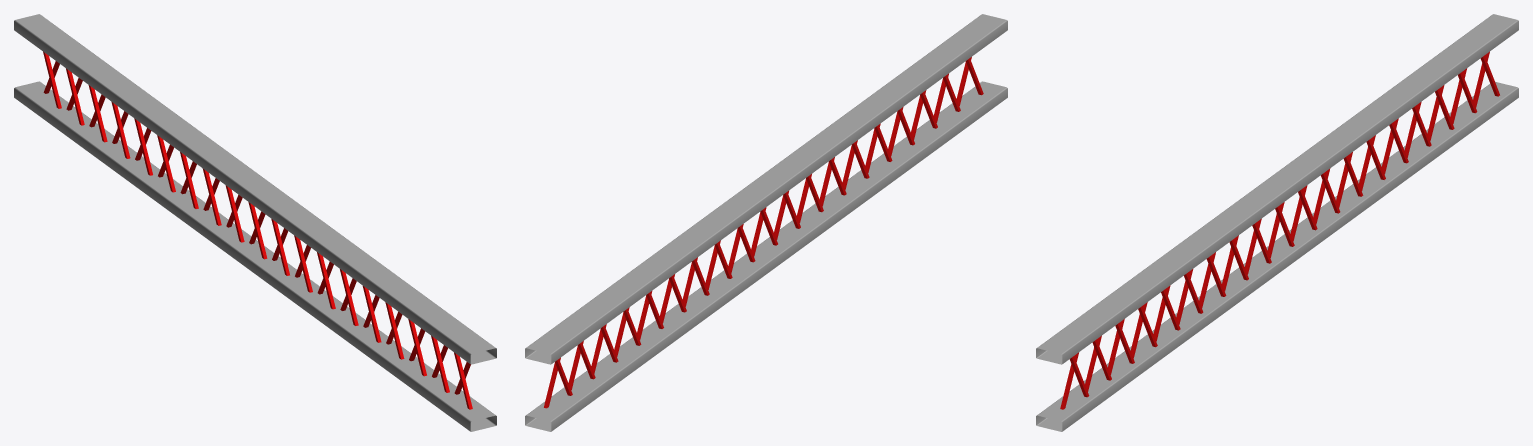
The model's file is Dom_znati_ograda_19x.fbx.
The picture shows the model from 3 angles, left to right: view 1: azimuth 30°, elevation 25°; view 2: azimuth 150°, elevation 25°; view 3: azimuth 330°, elevation 25°; orthographic projection.
Parts seen in each view (by area): view 1: dom_znati_ograda_1_dlinnaa_19; view 2: dom_znati_ograda_1_dlinnaa_19; view 3: dom_znati_ograda_1_dlinnaa_19.
Boxes of the visible parts, x1,y1,x2,y2 form: dom_znati_ograda_1_dlinnaa_19: [14, 14, 496, 431]; dom_znati_ograda_1_dlinnaa_19: [525, 14, 1007, 431]; dom_znati_ograda_1_dlinnaa_19: [1036, 14, 1518, 431].
Size of the model in its own units: 2.44 by 6.87 by 73.08.
